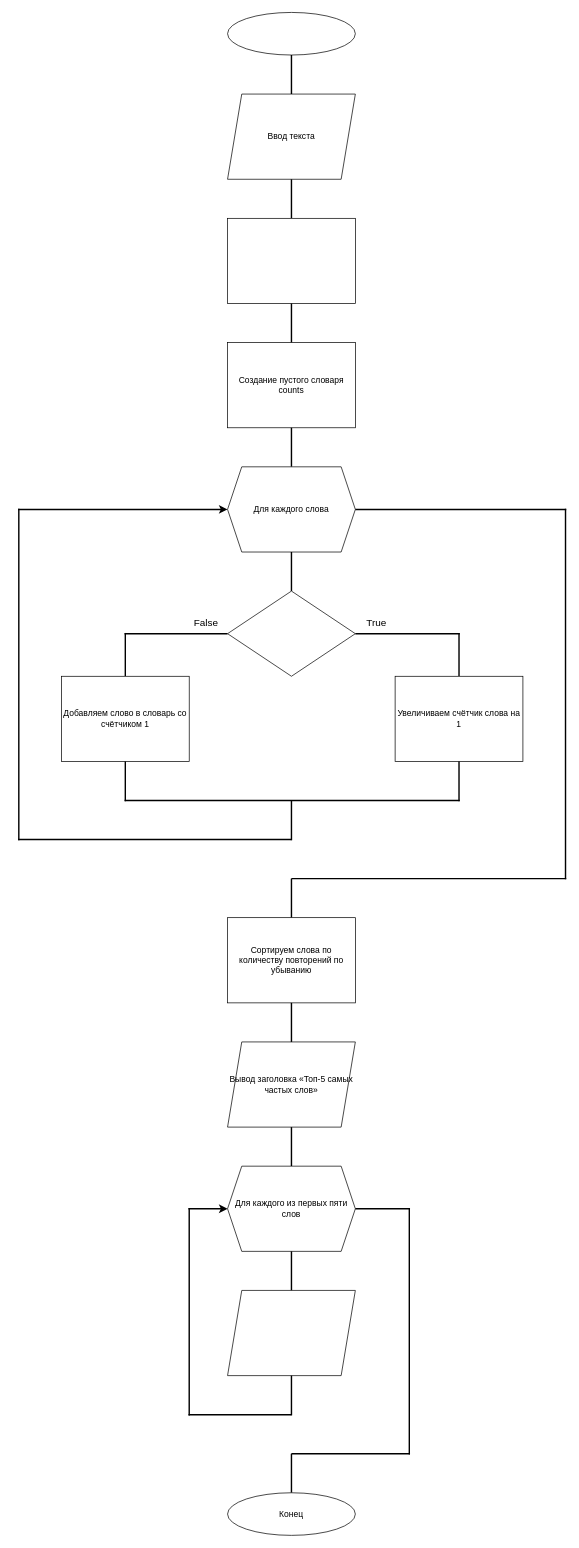
Image size: 579x1548. Some labels were removed from this diagram. Each missing label, with the centre of its shape:
Вывод слова и количества его повторений: the point at 291,1333
Начало: the point at 291,33
Переводим текст в нижний регистр и находим все слова: the point at 291,261
Слово уже есть в словаре: the point at 291,633
